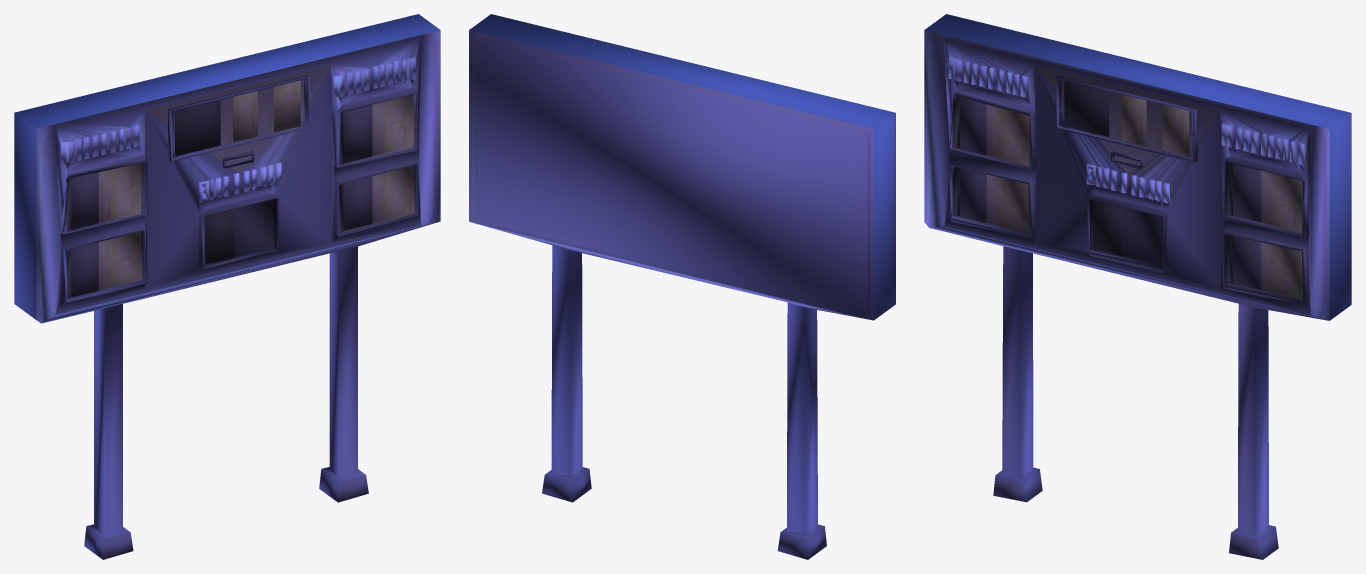
File: model.progressive.glb
3 views of the same model, side by side, from view 1: azimuth 30°, elevation 25°; view 2: azimuth 150°, elevation 25°; view 3: azimuth 330°, elevation 25° (orthographic).
Visible parts, largest first — view 1: texture_pbr_20250901; view 2: texture_pbr_20250901; view 3: texture_pbr_20250901.
Boxes of the visible parts, x1,y1,x2,y2 form: texture_pbr_20250901: (14,14,440,559); texture_pbr_20250901: (469,14,895,559); texture_pbr_20250901: (924,14,1351,559).
Bounding box in the file's own units: 1.76 × 1.86 × 0.1816.
Materials: 1 (1 with a texture image).
